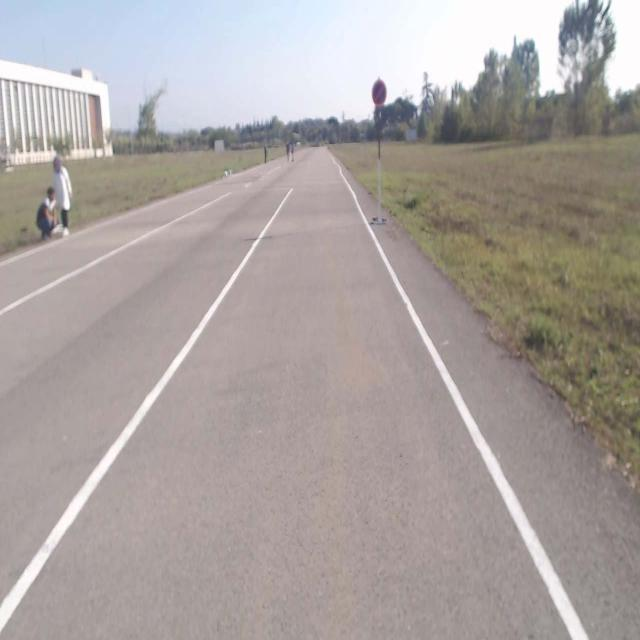parkyasak: (372, 79, 386, 105)
